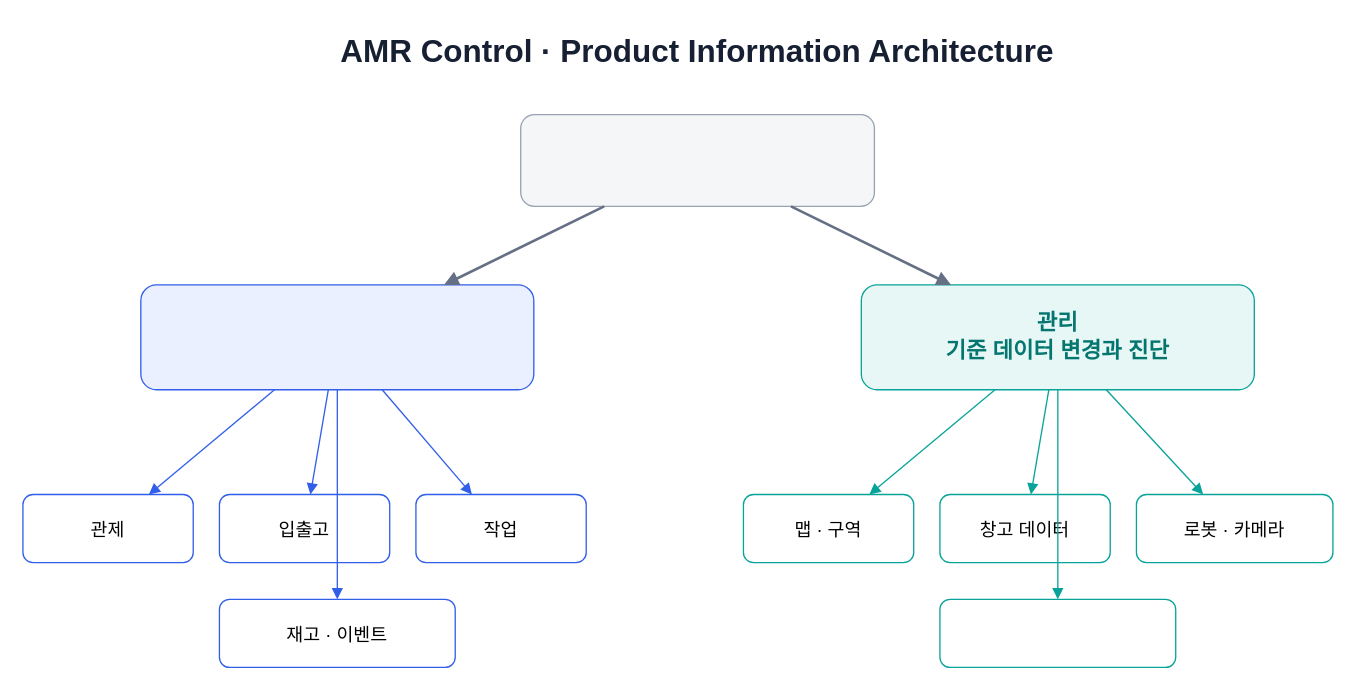
Some shapes in this 1356 by 690 pixel diagram are drawn without their labels. Here are the shapes that lost their labels. From the top down, the centre of each, then its label:
(696,159): 공통 헤더 연결 · 시간 · ESTOP
(337,337): 운영 현재 상태 판단과 즉시 행동
(1057,632): 시스템 · 기록
